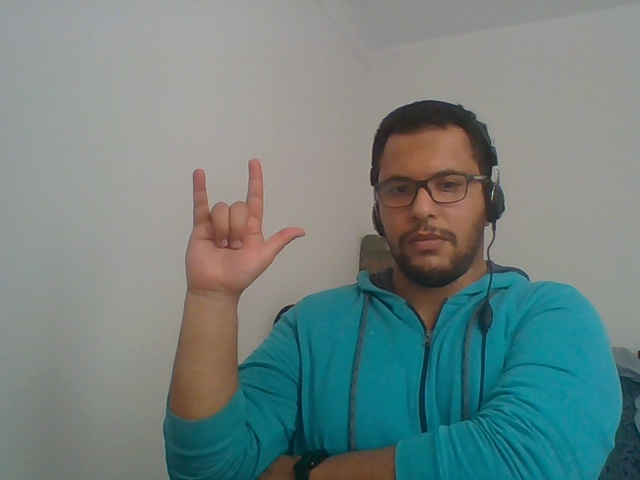iloveyou: (147, 135, 312, 364)
